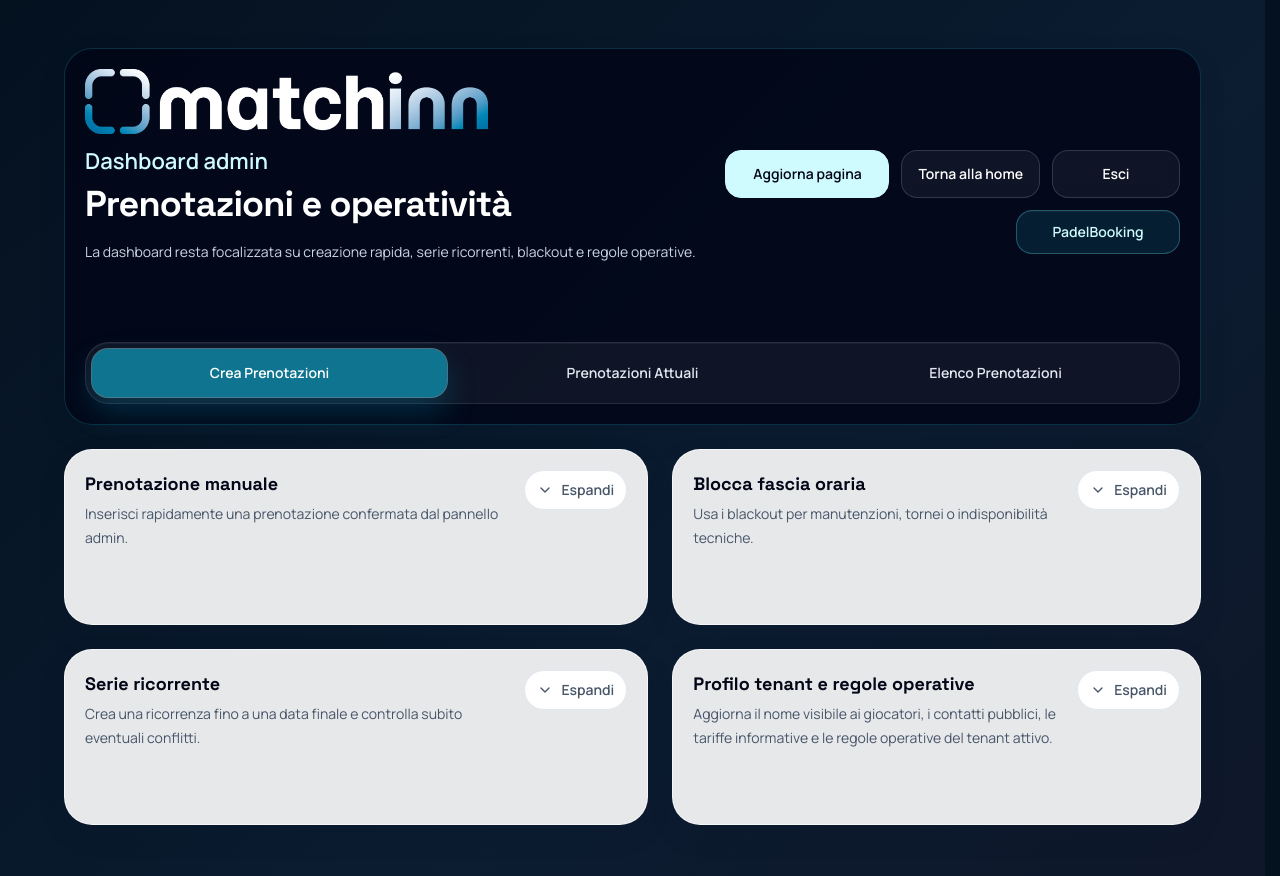
AdminDashboardPage › shows the explicit DST ambiguity error when the blackout time is ambiguous
Expected: the text "Dashboard admin" is shown, [85, 146, 268, 176]
Click the button with aria-label "Espandi Blocca fascia oraria" at (1129, 490), box [1077, 470, 1180, 510]
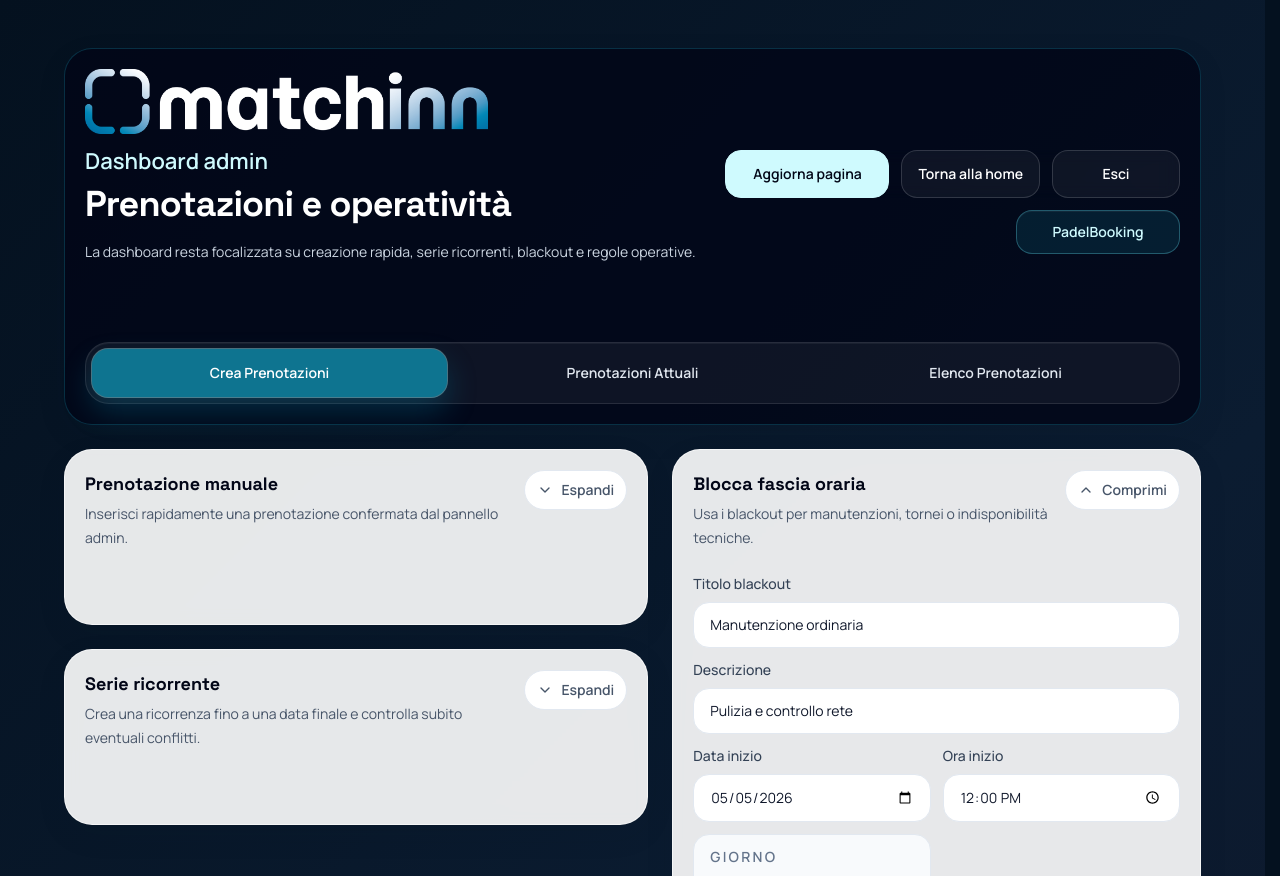
Type "2026-10-25" into the date field labelled "Data inizio" at (812, 798), box [693, 774, 931, 822]
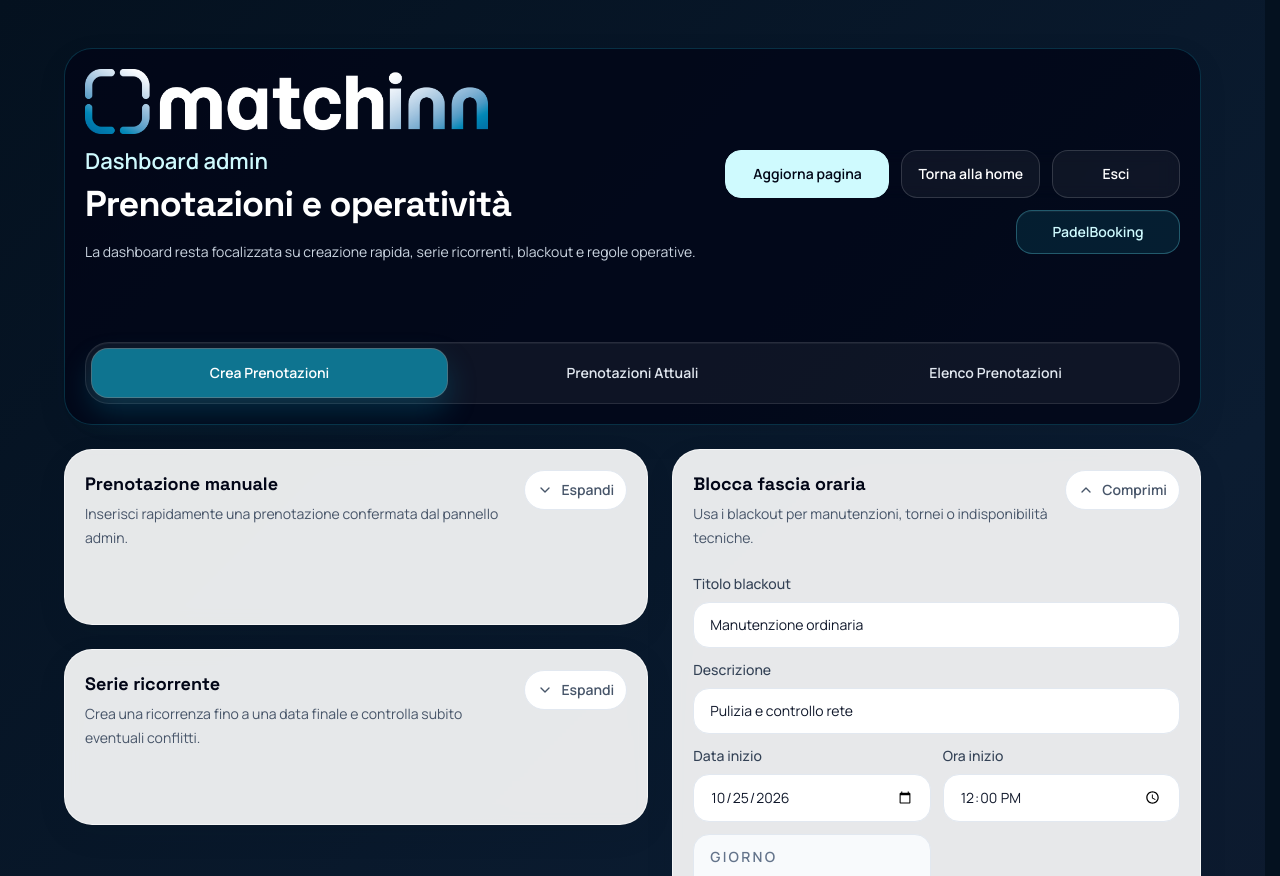
Replace the text in the time field labelled "Ora inizio" with "02:15" at (1061, 798), box [943, 774, 1180, 822]
(page scrolled)
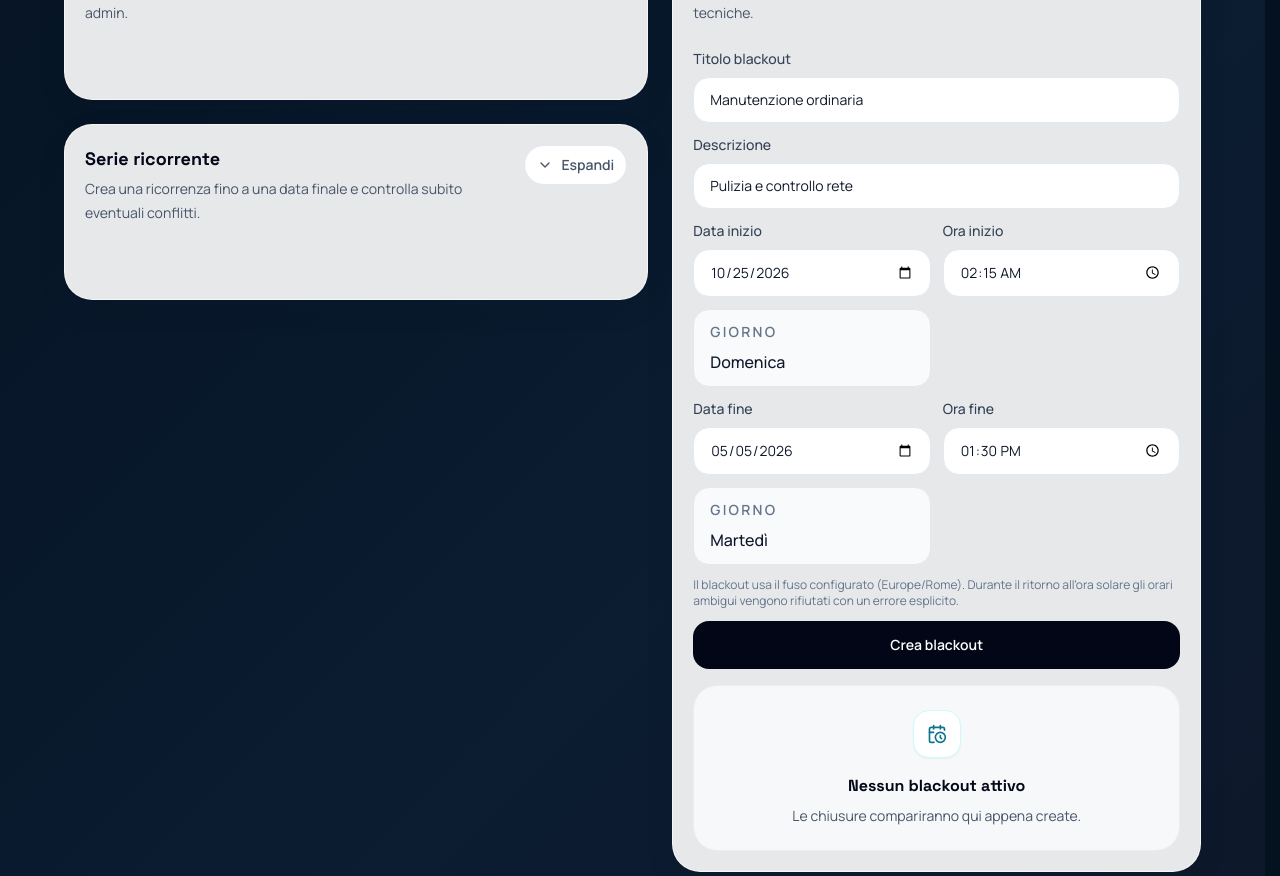
Type "2026-10-25" into the date field labelled "Data fine" at (812, 451), box [693, 427, 931, 475]
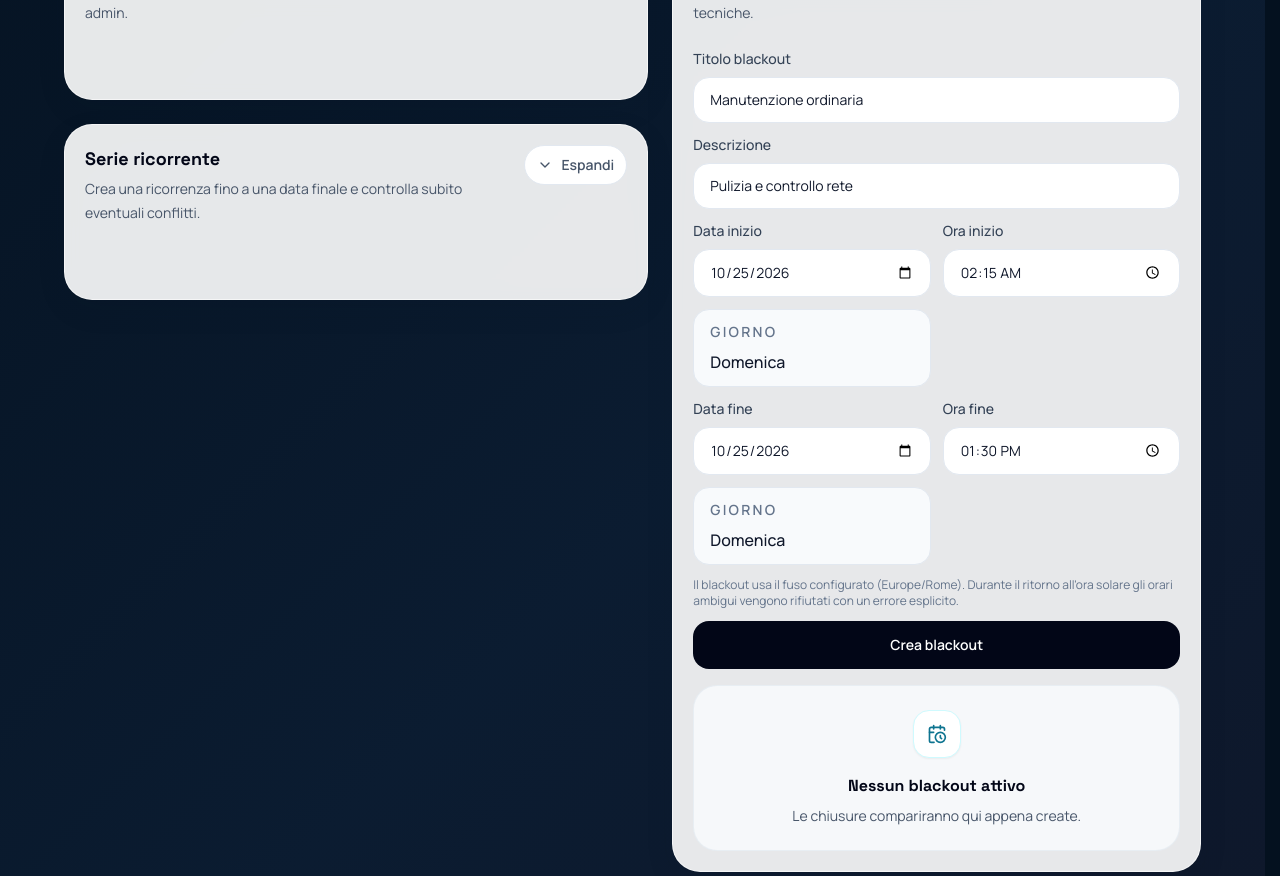
Replace the text in the time field labelled "Ora fine" with "03:15" at (1061, 451), box [943, 427, 1180, 475]
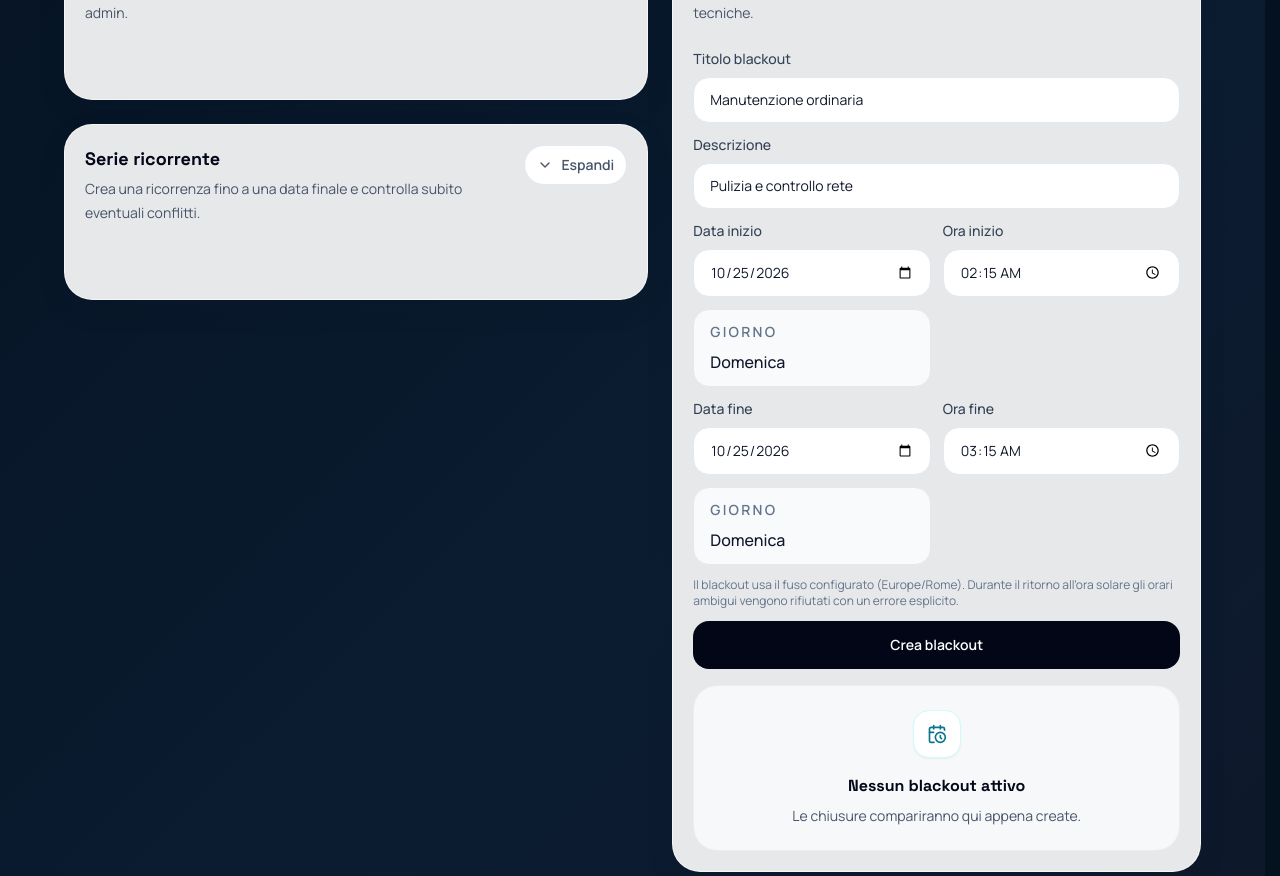
Click the button "Crea blackout" at (937, 645), box [693, 621, 1180, 669]
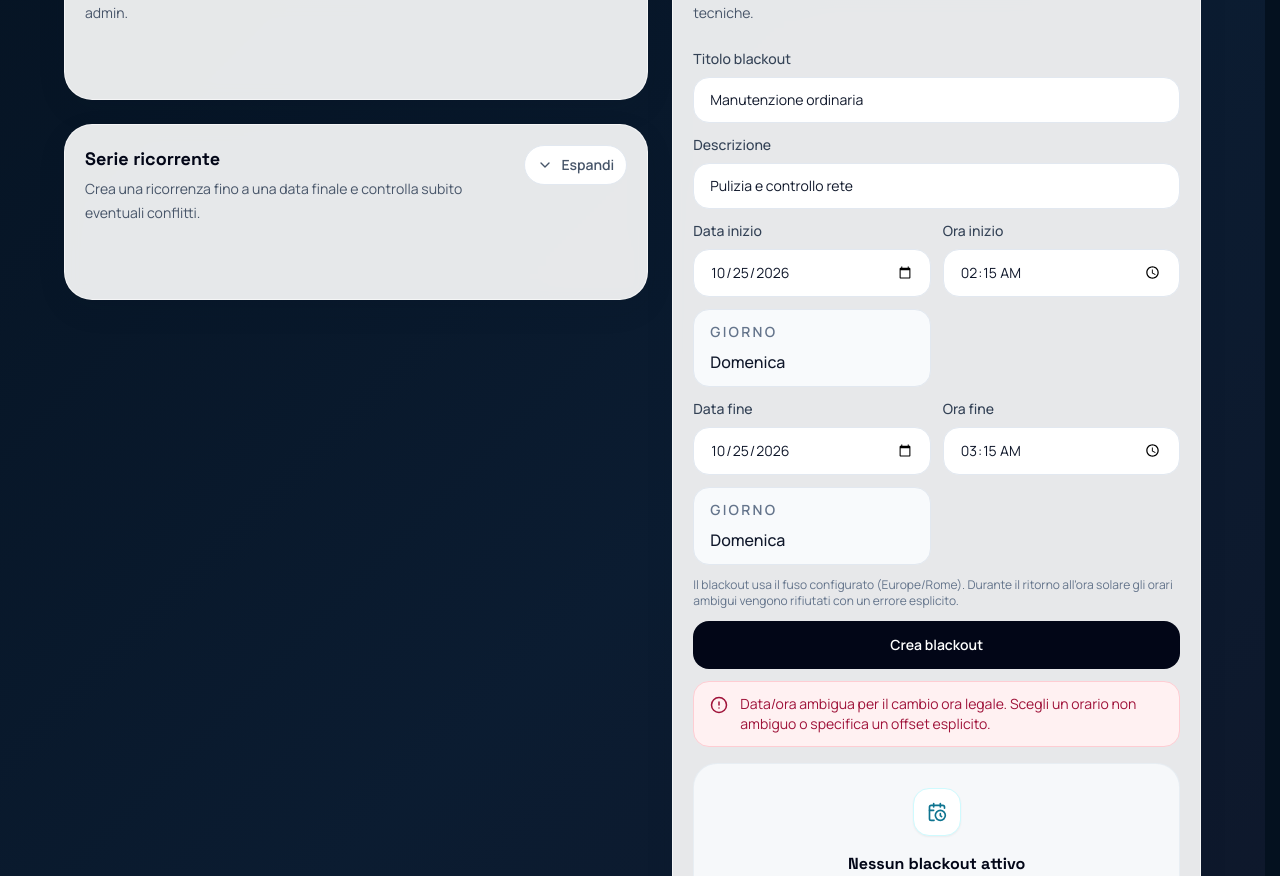
Now the text "Data/ora ambigua per il cambio ora legale. Scegli un orario non ambiguo o specifica un offset esplicito." is shown, box [740, 694, 1136, 733]
